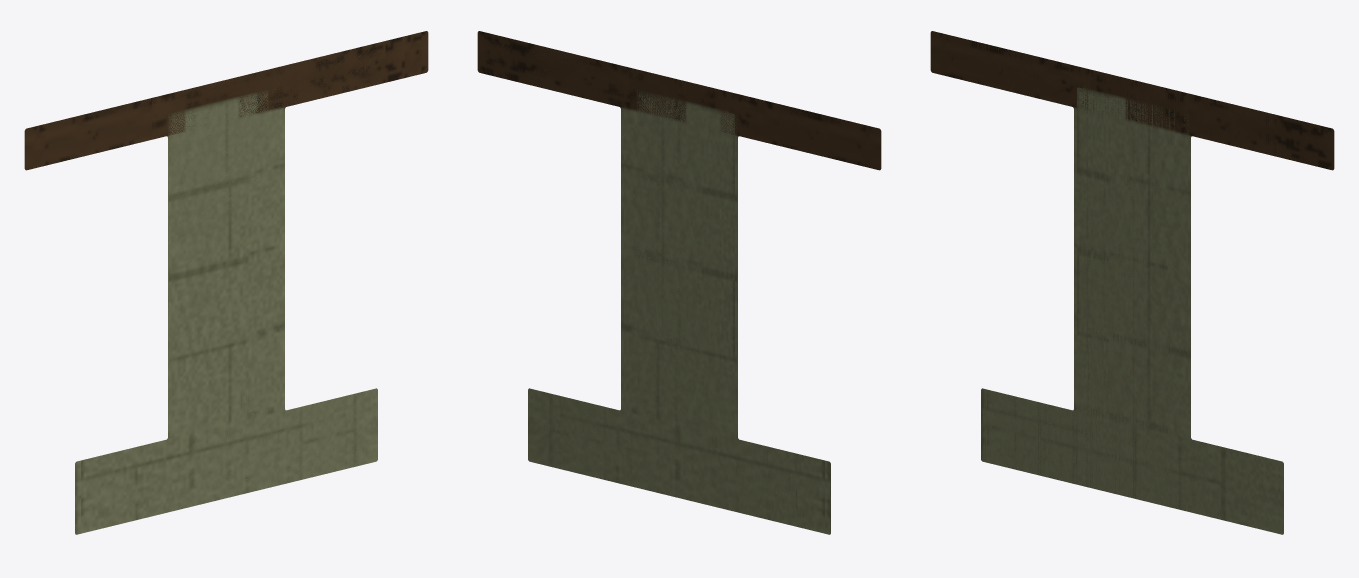
The model's file is waystone.obj.
The picture shows the model from 3 angles, left to right: view 1: azimuth 30°, elevation 25°; view 2: azimuth 150°, elevation 25°; view 3: azimuth 330°, elevation 25°; orthographic projection.
Bounding box in the file's own units: 3.56 × 3.58 × 0.
Materials: 16 (16 with a texture image).
